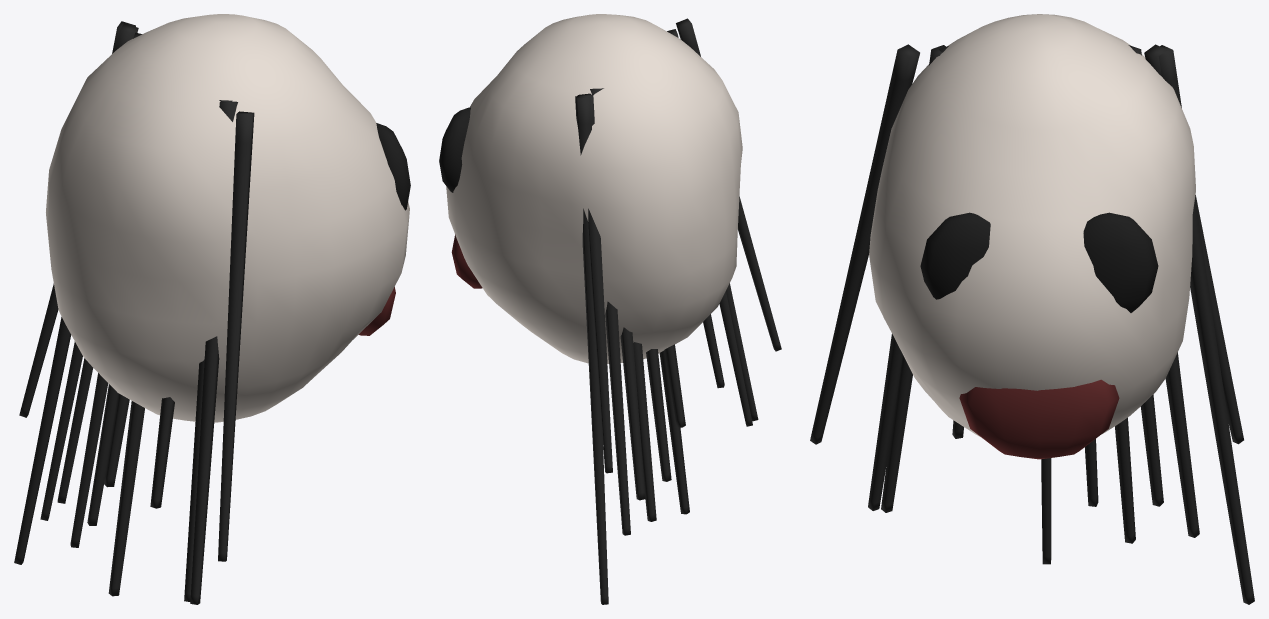
The model's file is SM_Wretch_Head.fbx.
The picture shows the model from 3 angles, left to right: view 1: azimuth 30°, elevation 25°; view 2: azimuth 150°, elevation 25°; view 3: azimuth 270°, elevation 25°; orthographic projection. The views are drawn at different scales.
Parts seen in each view (by area): view 1: SM_Wretch_Head; view 2: SM_Wretch_Head; view 3: SM_Wretch_Head.
Boxes of the visible parts, x1,y1,x2,y2 form: SM_Wretch_Head: (14,14,410,604); SM_Wretch_Head: (439,14,781,604); SM_Wretch_Head: (810,14,1254,604).
Size of the model in its own units: 18.97 by 33.69 by 21.69.
